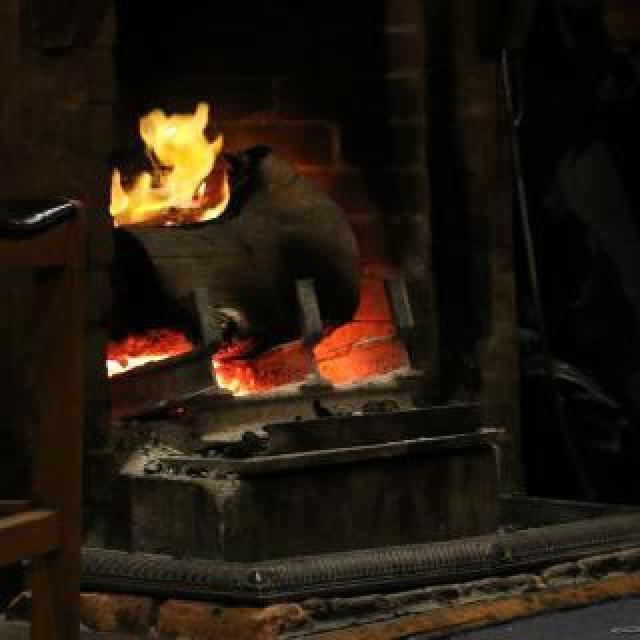Fire: (102, 98, 258, 234)
